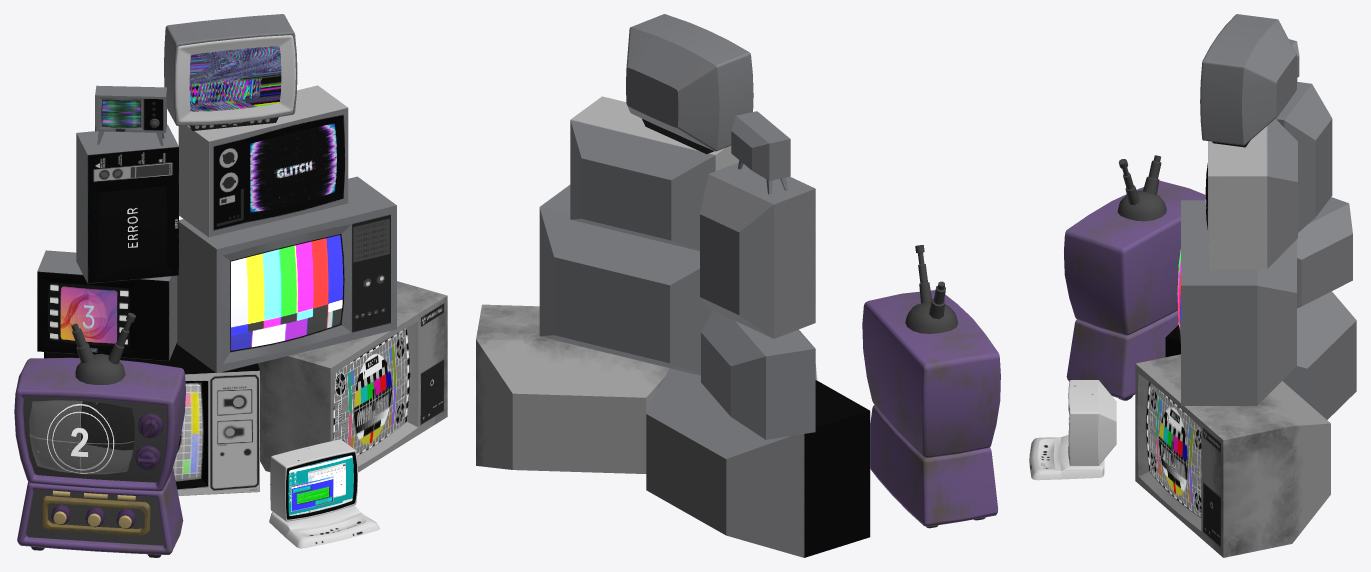
3 renders of one model, left to right at view 1: azimuth 30°, elevation 25°; view 2: azimuth 150°, elevation 25°; view 3: azimuth 270°, elevation 25°, orthographic. The views are drawn at different scales.
Visible parts, largest first — view 1: TV_03, TV_02, TV, TV_05, TV_07, TV_08, TV_06, TV_04, Dai, PC_01, TV_09, antenna (+2 smaller); view 2: TV_04, TV_02, TV_03, TV_07, TV, TV_05, TV_08, TV_06, Dai, TV_09, antenna; view 3: TV_02, TV_03, TV, TV_05, TV_08, TV_04, PC_01, Dai, TV_07, TV_06, antenna.
Boxes of the visible parts, bbox=[...] form: TV_03: bbox=[177, 176, 396, 373]; TV_02: bbox=[258, 281, 447, 472]; TV: bbox=[14, 357, 185, 491]; TV_05: bbox=[178, 85, 348, 237]; TV_07: bbox=[76, 124, 178, 283]; TV_08: bbox=[164, 14, 297, 130]; TV_06: bbox=[37, 250, 177, 360]; TV_04: bbox=[44, 342, 259, 495]; Dai: bbox=[17, 467, 183, 554]; PC_01: bbox=[269, 439, 379, 548]; TV_09: bbox=[95, 85, 166, 145]; antenna: bbox=[71, 312, 135, 384]; TV_04: bbox=[646, 368, 870, 557]; TV_02: bbox=[476, 304, 669, 473]; TV_03: bbox=[539, 185, 712, 375]; TV_07: bbox=[700, 162, 815, 338]; TV: bbox=[862, 290, 1000, 457]; TV_05: bbox=[570, 96, 739, 251]; TV_08: bbox=[626, 14, 753, 154]; TV_06: bbox=[701, 310, 815, 439]; Dai: bbox=[870, 405, 997, 526]; TV_09: bbox=[731, 111, 790, 194]; antenna: bbox=[905, 245, 958, 333]; TV_02: bbox=[1135, 354, 1330, 557]; TV_03: bbox=[1177, 200, 1296, 405]; TV: bbox=[1064, 180, 1205, 335]; TV_05: bbox=[1205, 119, 1297, 269]; TV_08: bbox=[1200, 14, 1297, 147]; TV_04: bbox=[1165, 291, 1356, 419]; PC_01: bbox=[1029, 380, 1116, 480]; Dai: bbox=[1066, 310, 1178, 399]; TV_07: bbox=[1275, 82, 1332, 232]; TV_06: bbox=[1296, 197, 1352, 308]; antenna: bbox=[1117, 155, 1166, 221].
Bounding box in the file's own units: 0.3095 × 0.2765 × 0.1947.
Materials: 12 (12 with a texture image).
